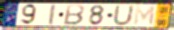8: (88, 4, 106, 26)
9: (19, 4, 38, 26)
B: (62, 4, 86, 26)
I: (49, 3, 57, 26)
M: (133, 5, 157, 27)
U: (112, 5, 135, 27)
